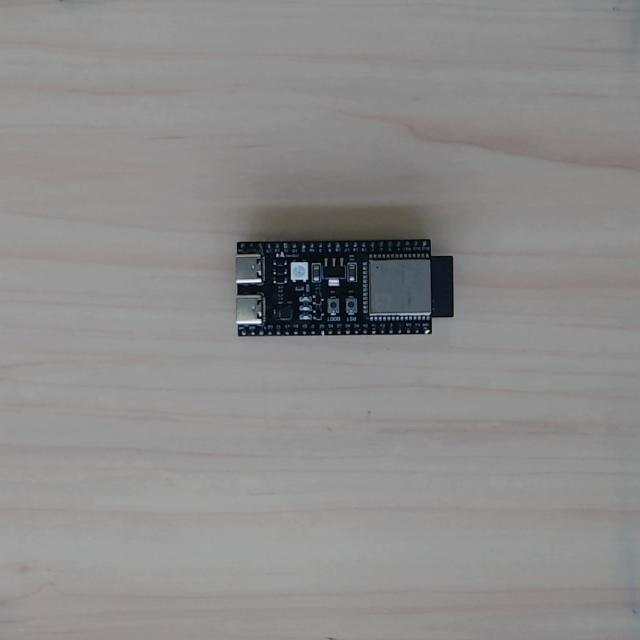ESP32S3-Devkit: (235, 239, 452, 336)
